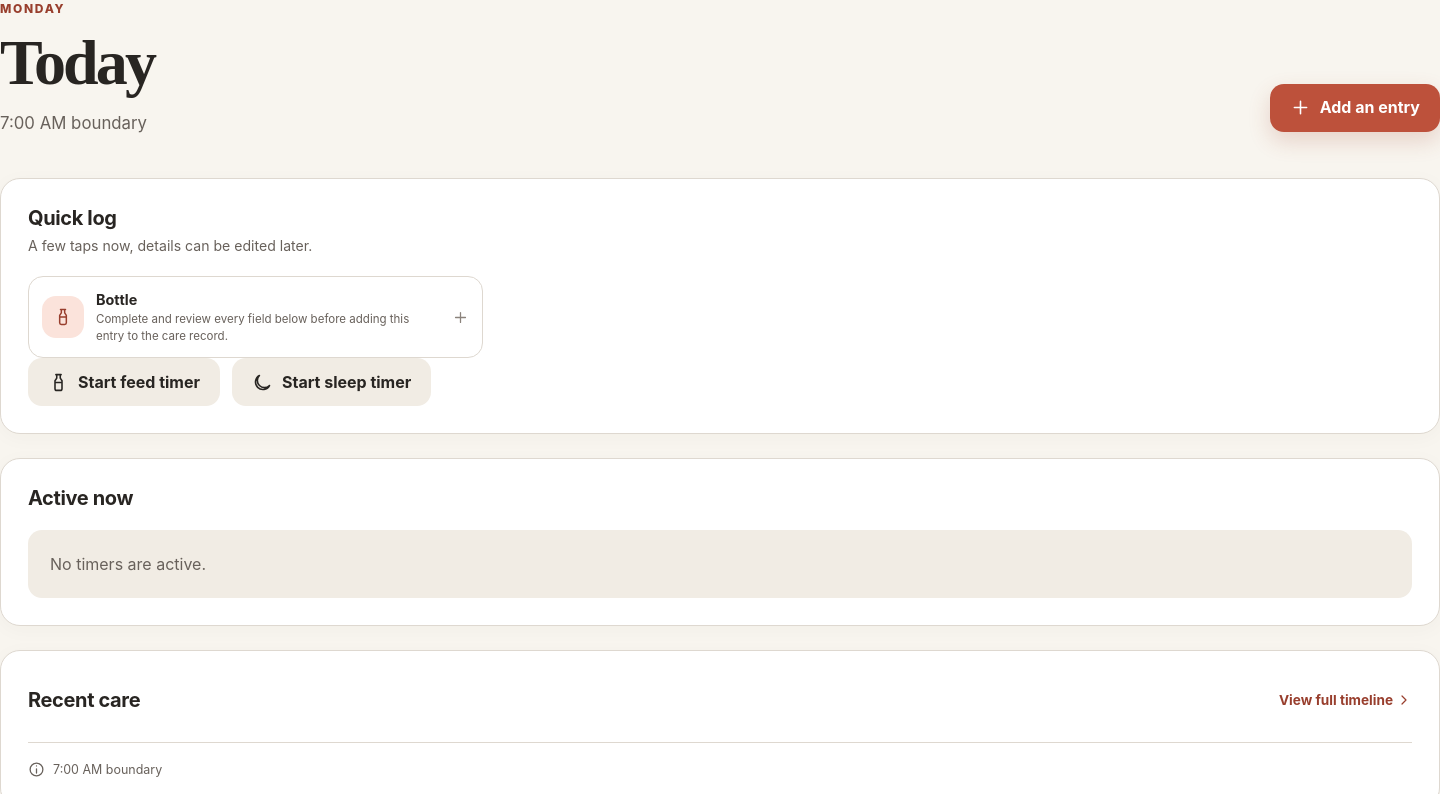
Scenario: controller-driven experience views › cancels a timer review without writing and restores focus
The image size is (1440, 794).
Click the button "Start feed timer" at (124, 382), box [28,358,220,406]
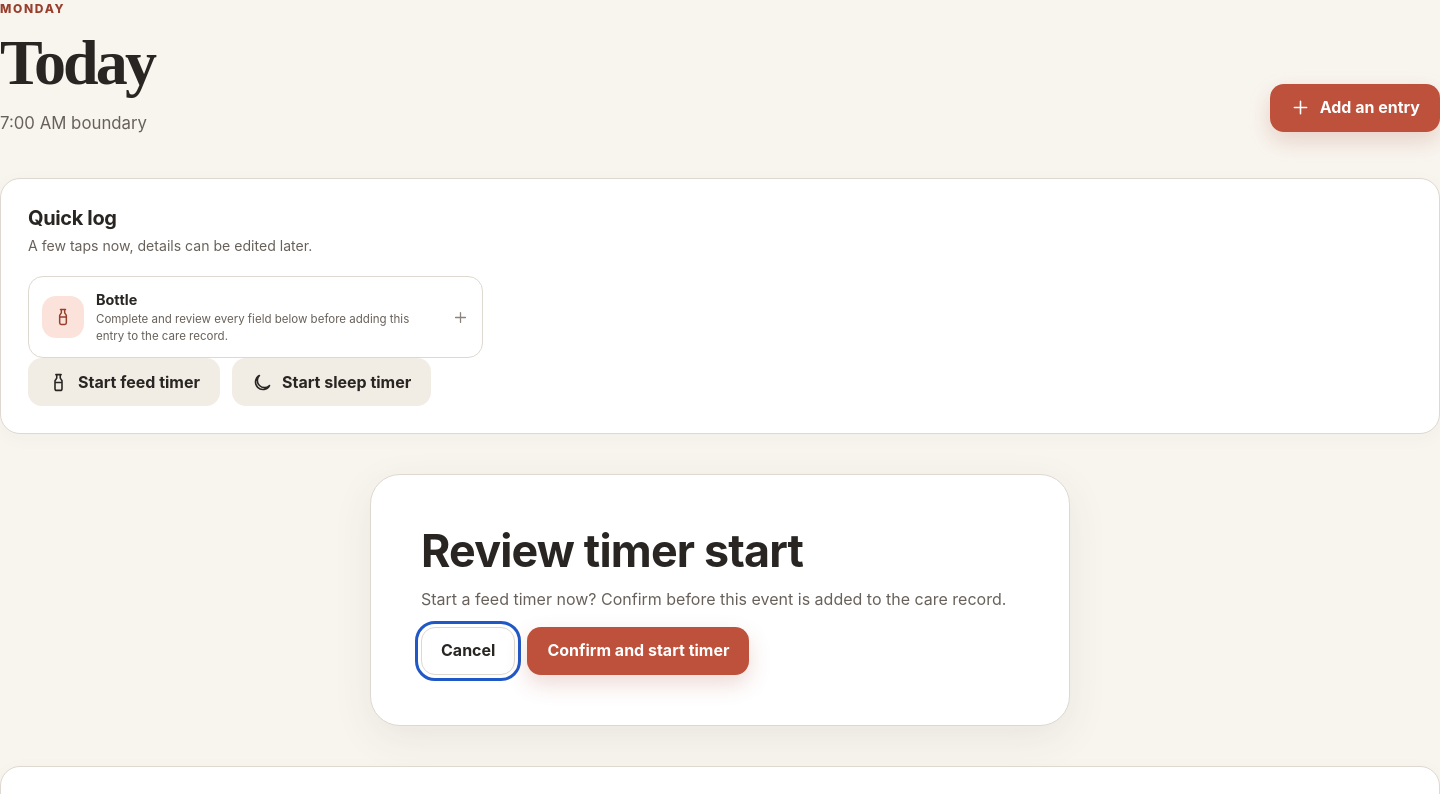
Press Escape
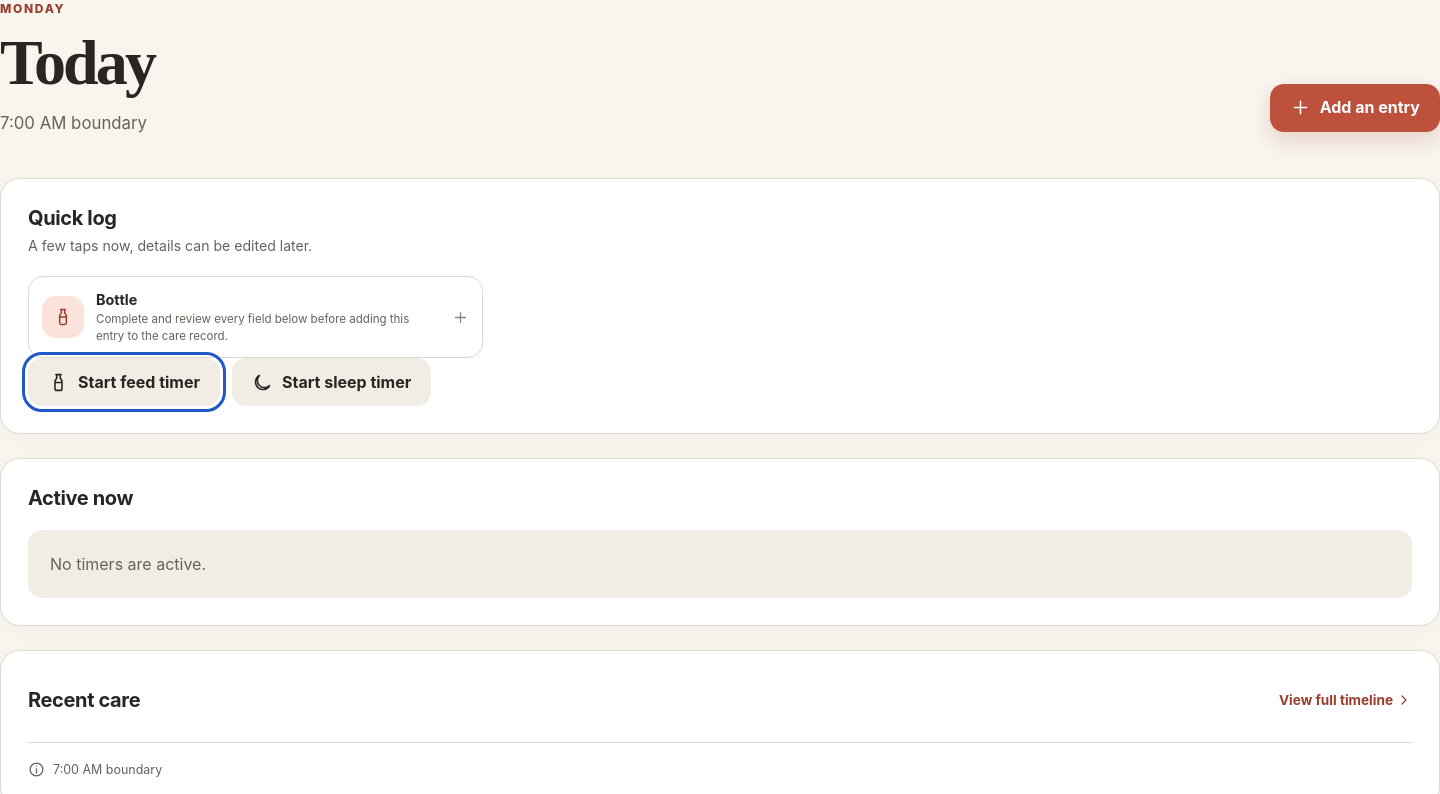
Result: the heading "Review timer start" is gone
